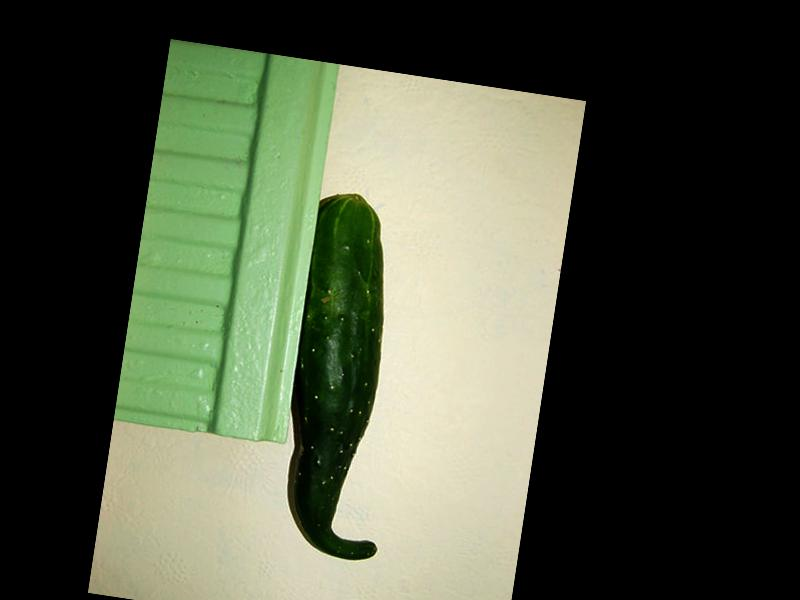Cucumber: (267, 189, 427, 564)
